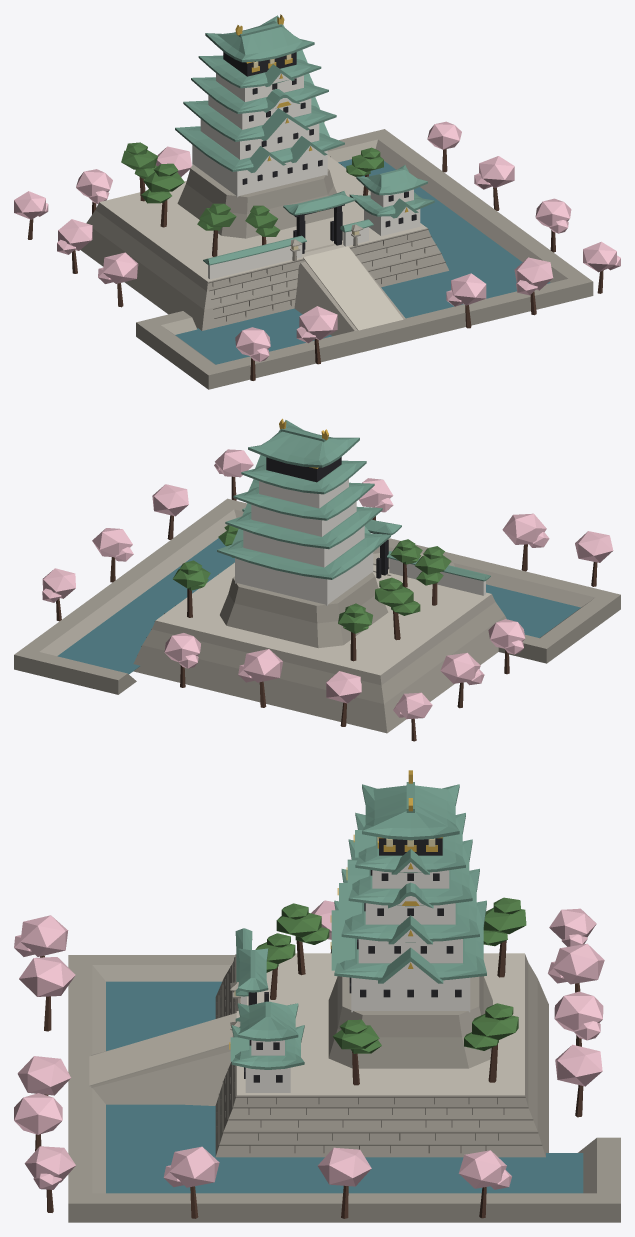
File: osaka-castle.glb
3 renders of one model, top to bottom at view 1: azimuth 30°, elevation 25°; view 2: azimuth 150°, elevation 25°; view 3: azimuth 270°, elevation 25°, orthographic. The views are drawn at different scales.
Visible parts, largest first — view 1: osaka_stone, osaka_roof, osaka_pave, osaka_blossom, osaka_water, osaka_white, osaka_foliage, osaka_black, osaka_bark, osaka_joint; view 2: osaka_stone, osaka_roof, osaka_blossom, osaka_pave, osaka_white, osaka_water, osaka_foliage, osaka_bark, osaka_black; view 3: osaka_stone, osaka_water, osaka_roof, osaka_blossom, osaka_pave, osaka_white, osaka_foliage, osaka_joint, osaka_bark, osaka_black, osaka_gold.
Part boxes in pixels (x1,y1,x2,y2): osaka_stone: (80,129,593,389); osaka_roof: (175,15,434,265); osaka_pave: (99,155,427,330); osaka_blossom: (14,121,620,361); osaka_water: (175,159,550,364); osaka_white: (192,73,420,279); osaka_foliage: (121,121,383,236); osaka_black: (223,52,416,253); osaka_bark: (27,149,603,380); osaka_joint: (208,156,445,321); osaka_stone: (14,498,620,733); osaka_roof: (217,420,490,581); osaka_blossom: (42,449,613,719); osaka_pave: (156,553,491,675); osaka_white: (235,479,485,605); osaka_water: (57,538,580,674); osaka_foliage: (173,525,451,633); osaka_bark: (56,476,597,741); osaka_black: (266,457,388,578); osaka_stone: (68,954,620,1222); osaka_water: (106,981,583,1193); osaka_roof: (230,782,486,1069); osaka_blossom: (14,900,604,1189); osaka_pave: (89,953,524,1095); osaka_white: (241,862,470,1092); osaka_foliage: (255,897,526,1053); osaka_joint: (216,954,542,1153); osaka_bark: (35,940,583,1218); osaka_black: (244,838,461,1082); osaka_gold: (229,770,442,1049).
Size of the model in its own units: 21.32 by 11.26 by 20.21.
